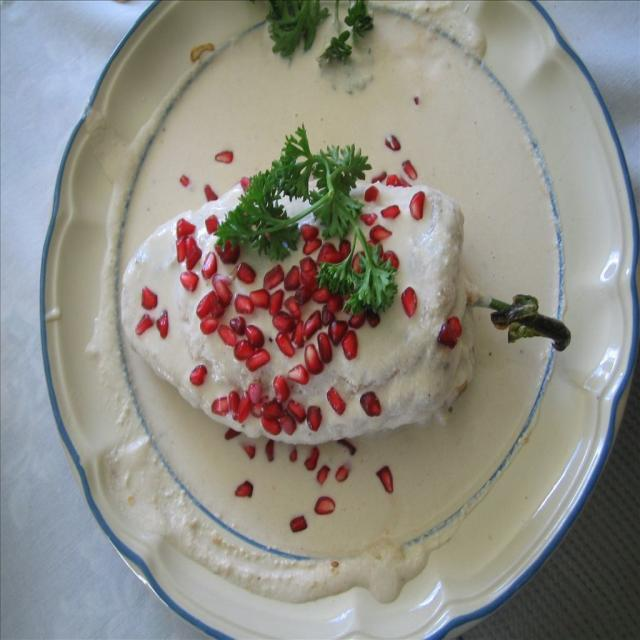non-organic waste: (39, 0, 640, 640)
